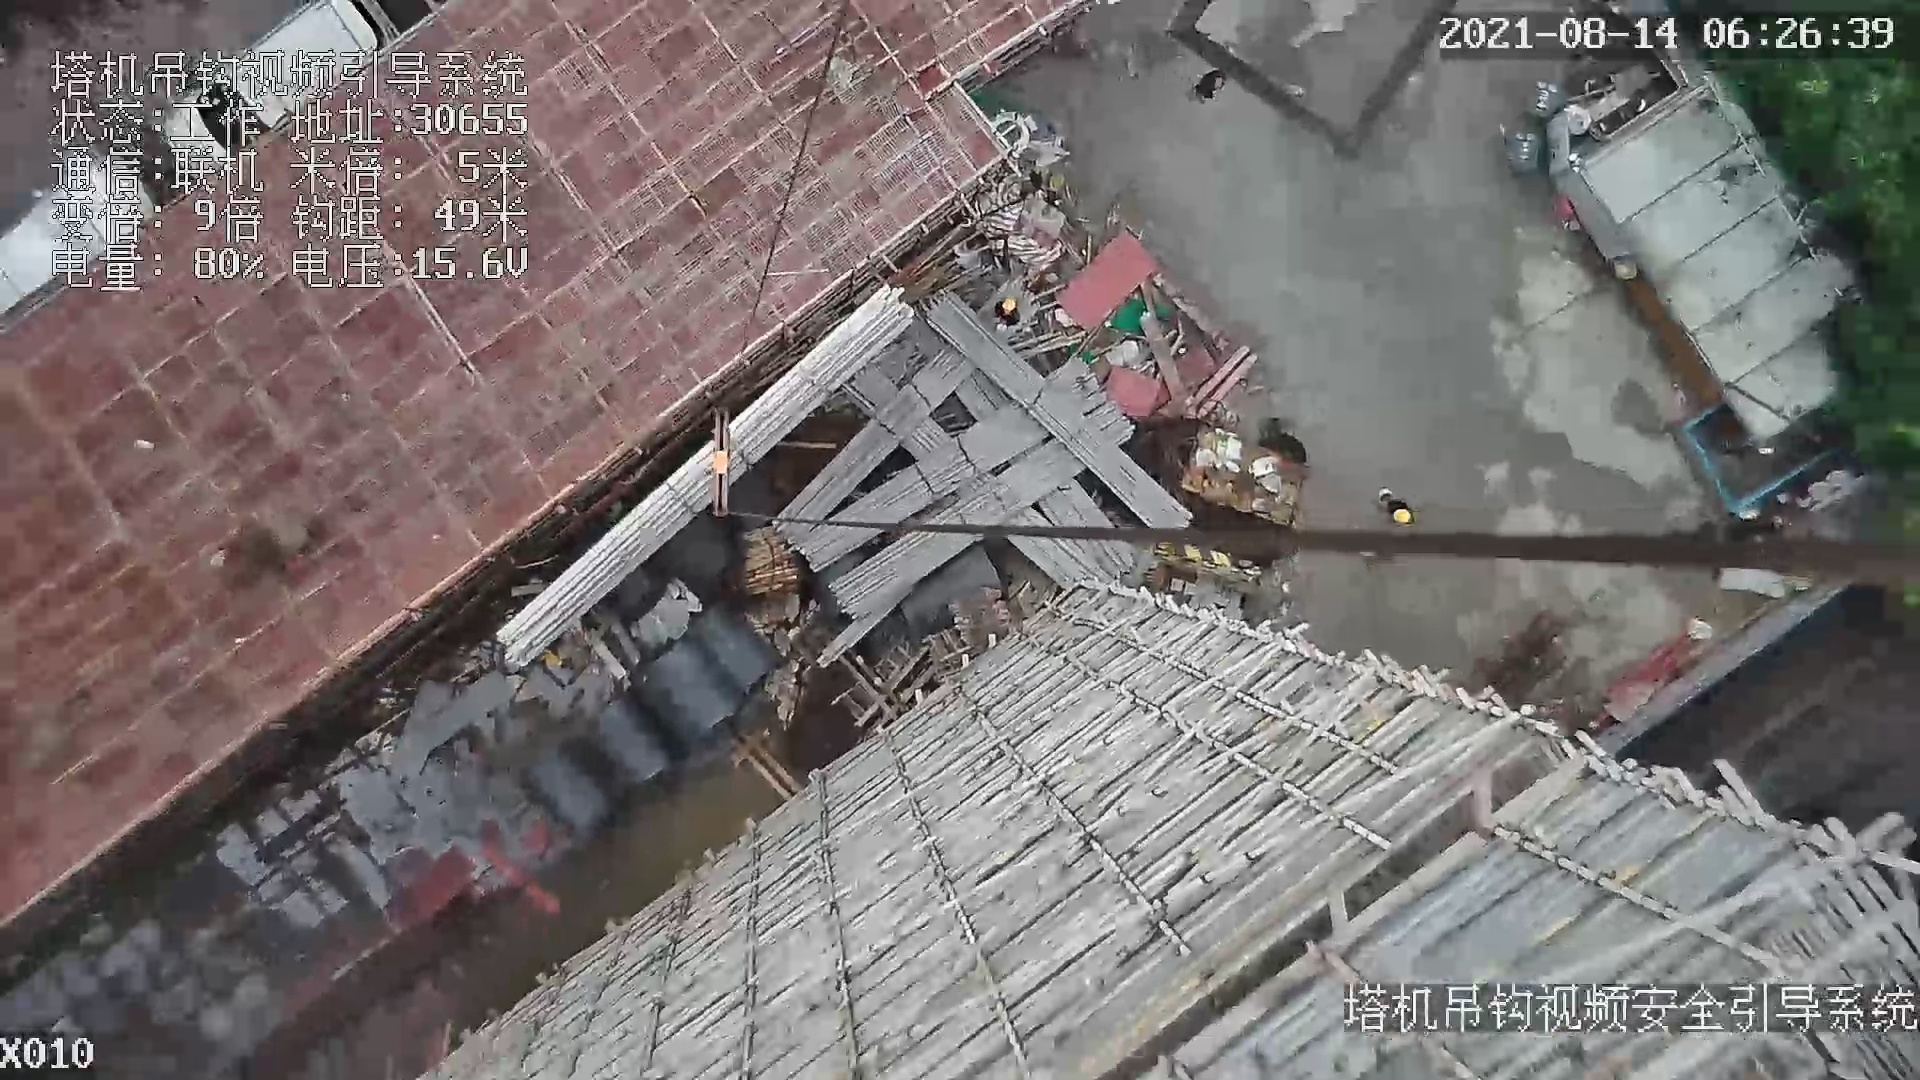helmet: (1393, 507, 1413, 529), (999, 296, 1017, 309)
hook: (709, 412, 737, 518)
person: (1383, 485, 1428, 532), (992, 295, 1024, 332)
